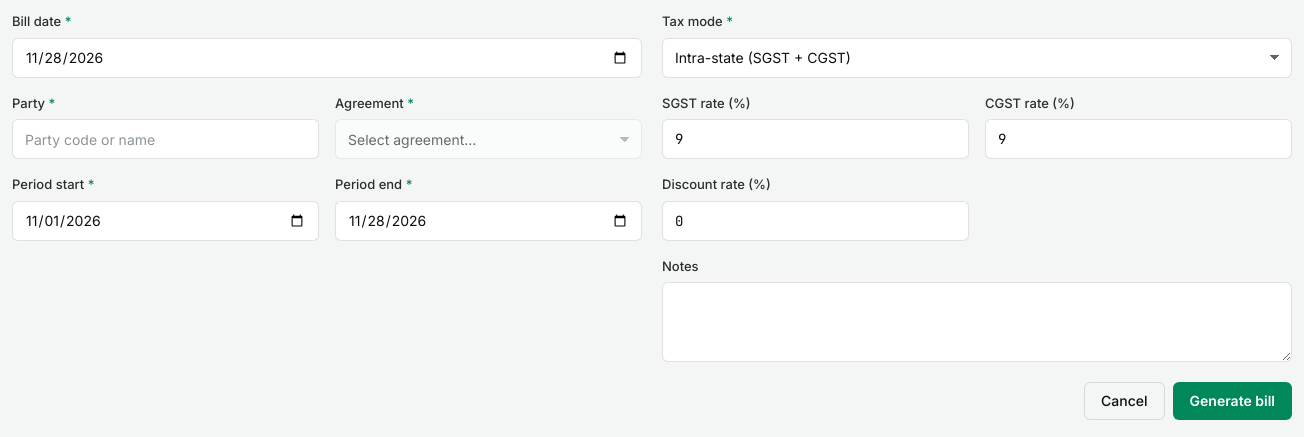
Scenario: BillForm › fills the period end with the month end and warns about a long period
This screenshot has width=1304, height=437.
Type "2026-06-01" into the date field labelled "Period start *". click: coordinates (166, 220)
box: left=12, top=200, right=319, bottom=240
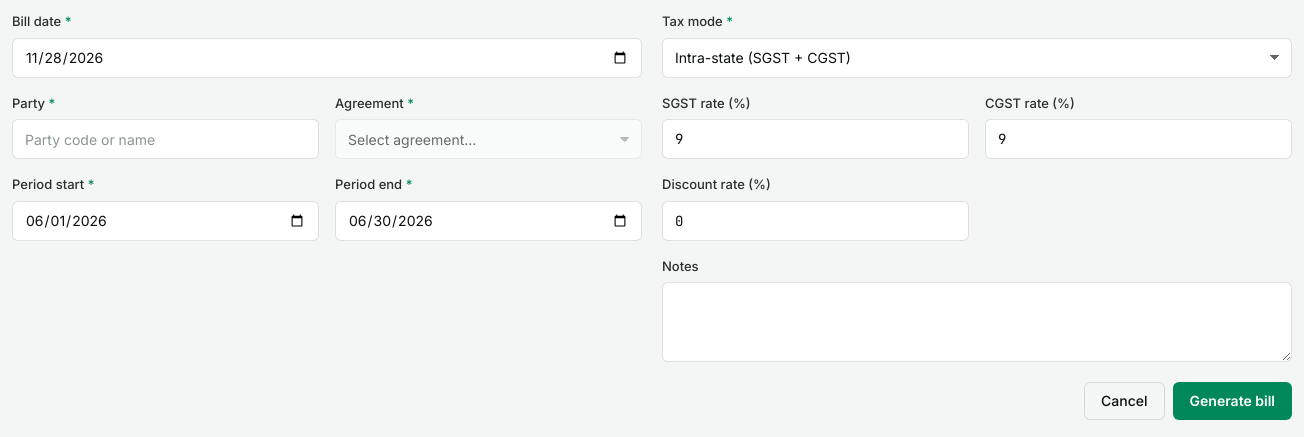
Expected: the date field labelled "Period end *" holds "2026-06-30"
Type "2026-11-30" into the date field labelled "Period end *". click: coordinates (488, 220)
box: left=335, top=200, right=642, bottom=240
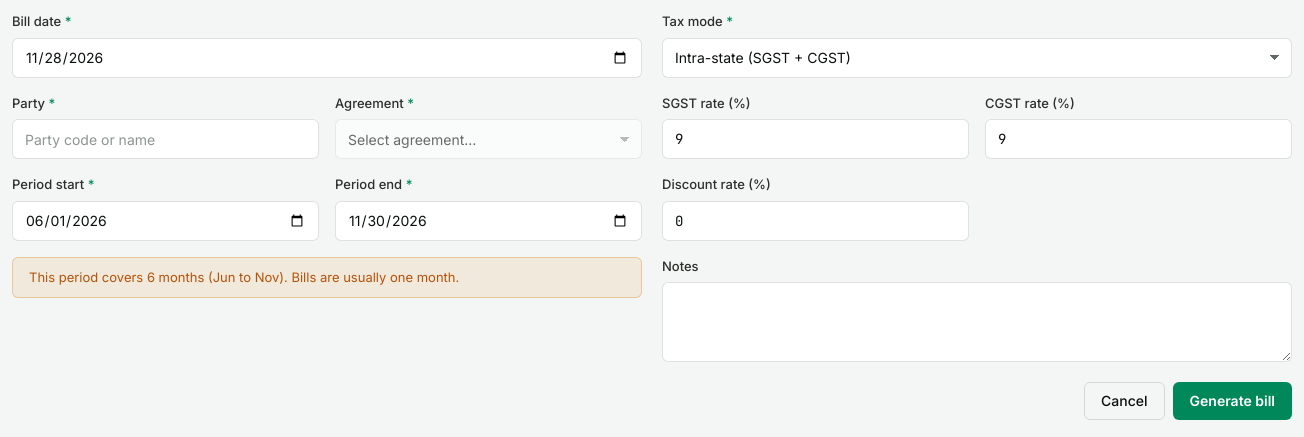
Expected: the text "This period covers 6 months (Jun to Nov)" is shown, left=29, top=268, right=459, bottom=284
